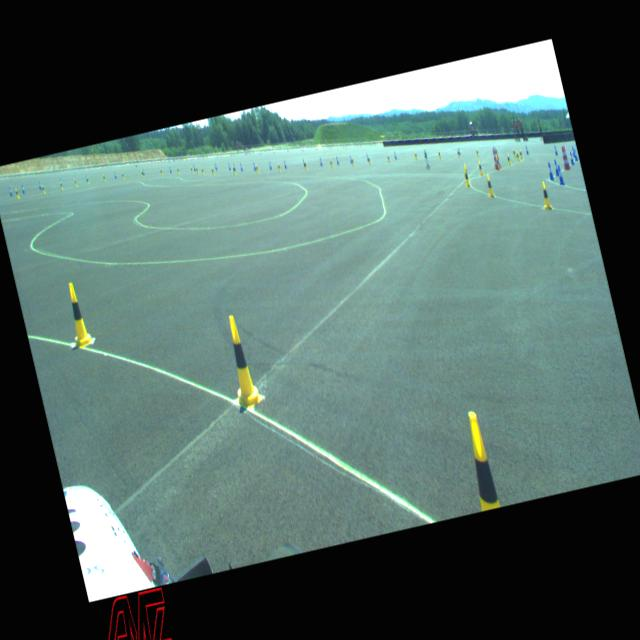blue_cone: (556, 164, 564, 185), (546, 162, 554, 180), (552, 158, 559, 176), (568, 151, 574, 164), (572, 148, 578, 160), (570, 146, 574, 157), (554, 145, 558, 155), (8, 186, 12, 195), (21, 184, 25, 193), (524, 145, 528, 154)
large_orange_cone: (559, 146, 568, 170), (490, 148, 499, 170), (562, 146, 570, 168), (494, 148, 501, 168)
yellow_cone: (218, 312, 264, 410), (459, 410, 500, 511), (61, 281, 94, 348), (538, 180, 552, 210), (484, 174, 494, 197), (462, 168, 470, 186), (463, 164, 469, 180), (477, 160, 482, 174), (496, 156, 500, 169), (506, 153, 510, 165), (413, 151, 418, 160), (515, 150, 519, 161), (518, 148, 522, 159), (15, 188, 19, 198), (276, 162, 280, 172), (329, 158, 333, 168), (255, 164, 259, 173), (303, 160, 307, 169), (350, 157, 354, 166)
